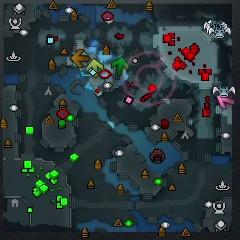x1: (216, 94, 235, 108)
x2: (86, 59, 104, 76)
x4: (112, 56, 129, 75)
x5: (71, 49, 90, 67)
